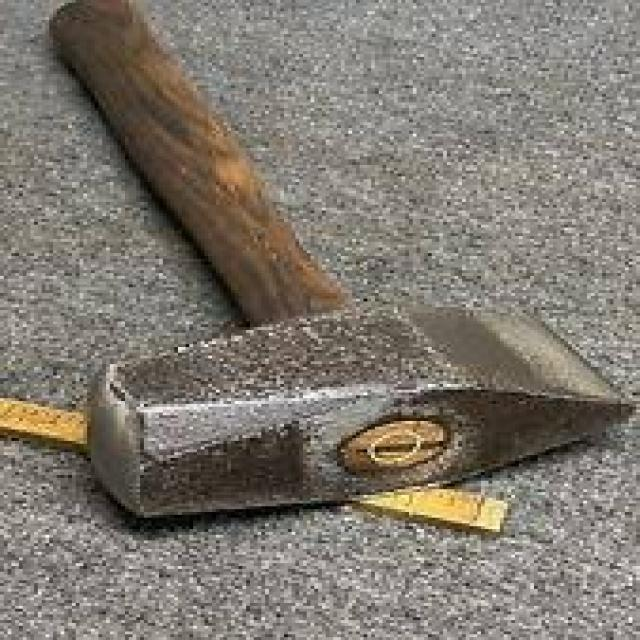hammer: (18, 0, 632, 529)
